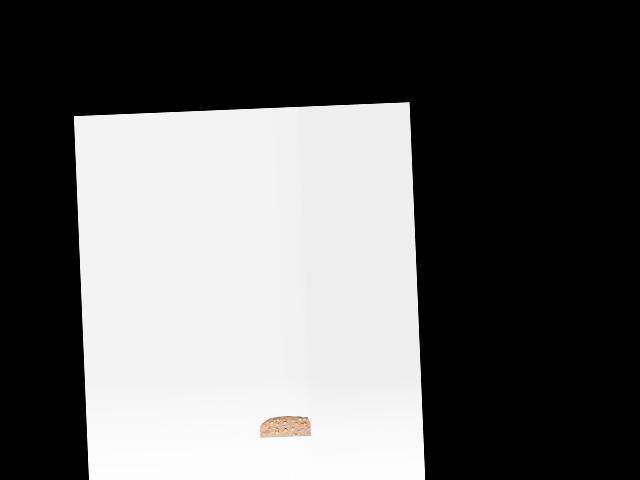chocolate: (259, 411, 311, 440)
